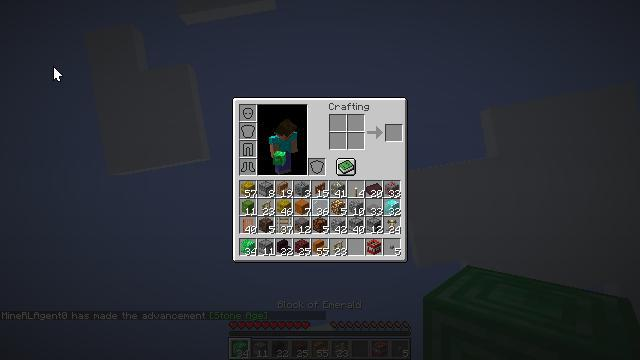cursor: (66, 53, 82, 63)
